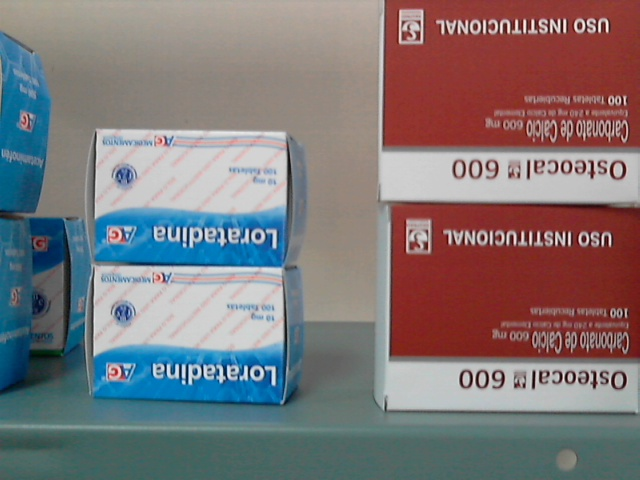AG: (94, 128, 286, 266), (92, 267, 283, 403)
